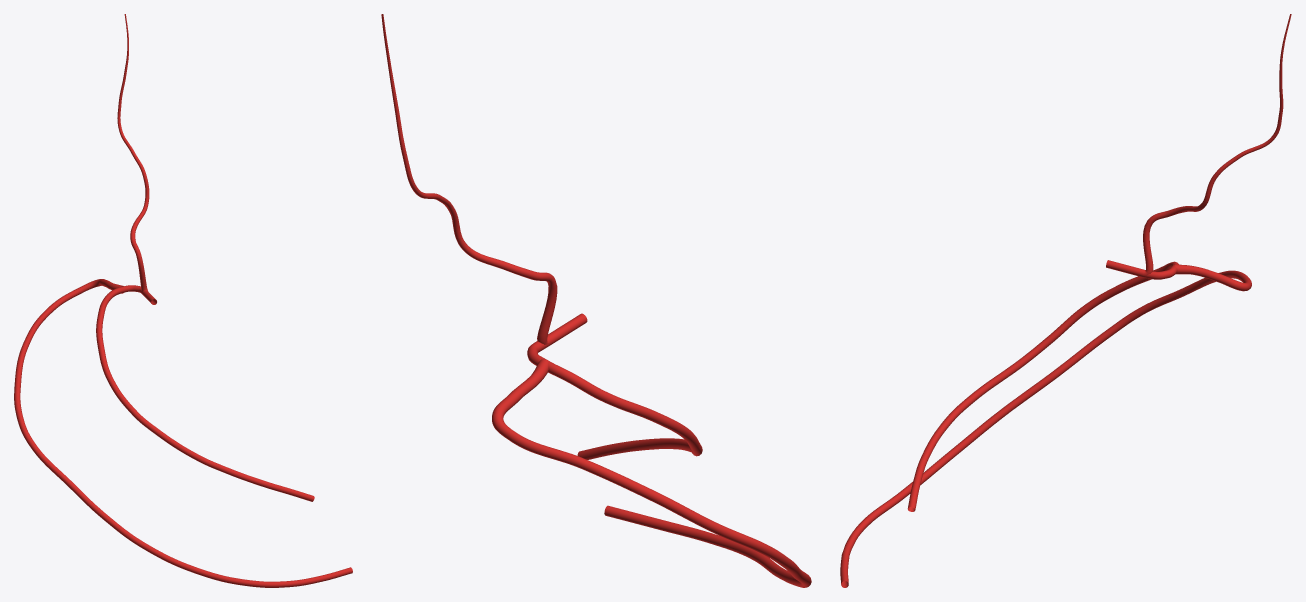
File: circulatorio-costocervical-trunk-r.glb
3 views of the same model, side by side, from view 1: azimuth 30°, elevation 25°; view 2: azimuth 150°, elevation 25°; view 3: azimuth 270°, elevation 25° (orthographic). The views are drawn at different scales.
Parts seen in each view (by area): view 1: Second posterior intercostal artery.r, First posterior intercostal artery.r, Deep cervical artery.r; view 2: Second posterior intercostal artery.r, First posterior intercostal artery.r, Deep cervical artery.r; view 3: Second posterior intercostal artery.r, First posterior intercostal artery.r, Deep cervical artery.r.
Boxes of the visible parts, x1=… form: Second posterior intercostal artery.r: x1=14, y1=279, x2=352, y2=587; First posterior intercostal artery.r: x1=96, y1=287, x2=314, y2=501; Deep cervical artery.r: x1=117, y1=14, x2=149, y2=293; Second posterior intercostal artery.r: x1=492, y1=359, x2=811, y2=587; First posterior intercostal artery.r: x1=548, y1=360, x2=702, y2=459; Deep cervical artery.r: x1=381, y1=14, x2=557, y2=344; Second posterior intercostal artery.r: x1=840, y1=264, x2=1251, y2=587; First posterior intercostal artery.r: x1=907, y1=261, x2=1178, y2=511; Deep cervical artery.r: x1=1143, y1=14, x2=1291, y2=275.
Bounding box in the file's own units: 0.0788 × 0.1533 × 0.1147.
